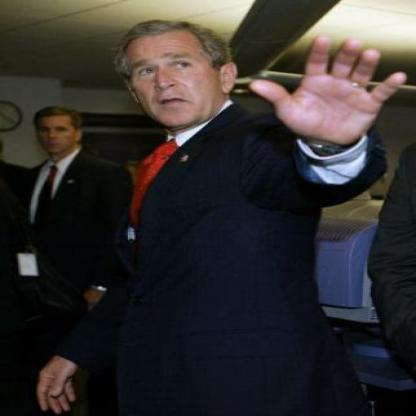face: (122, 23, 221, 126), (35, 111, 80, 155)
